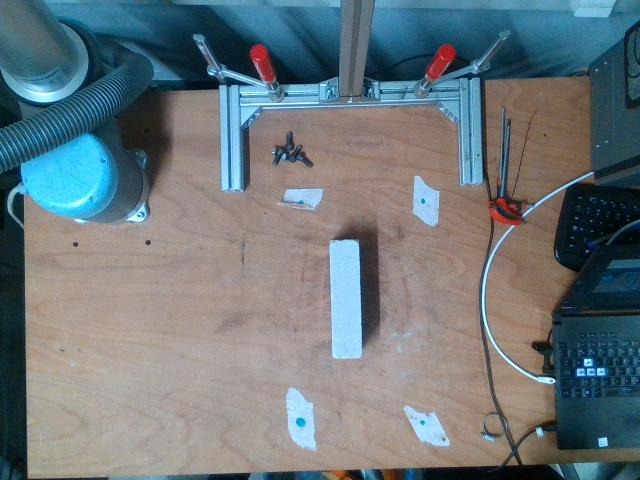brick-side: (330, 242, 362, 358)
